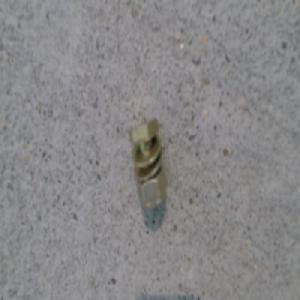BoltNutSet: (132, 120, 166, 204)
